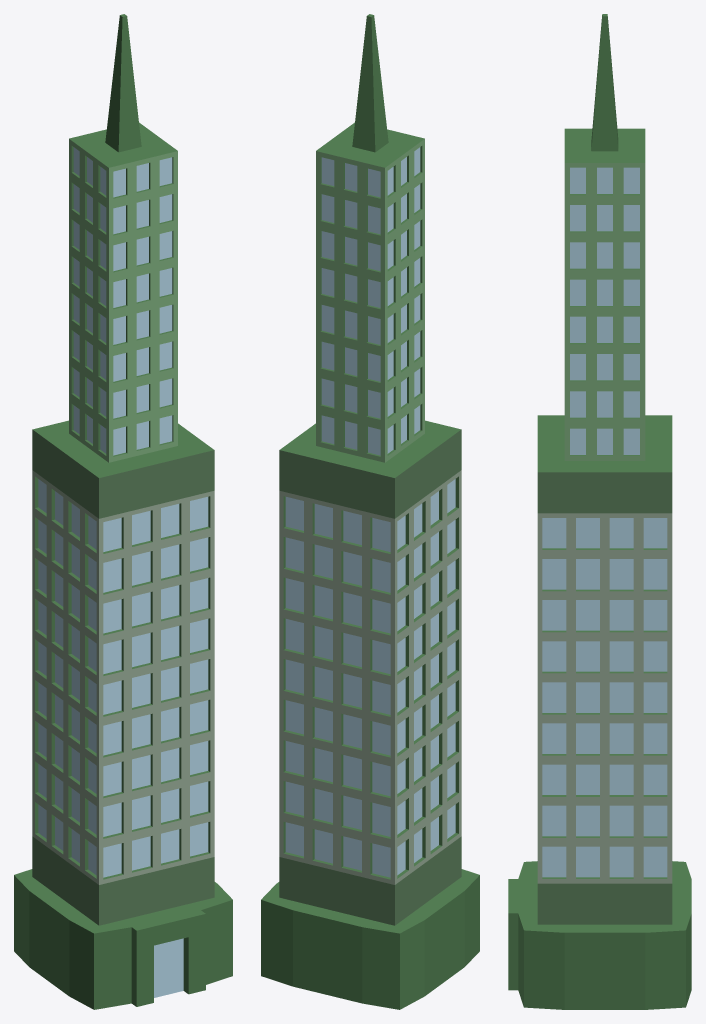
The model's file is skyscraperB.fbx.
3 views of the same model, side by side, from view 1: azimuth 30°, elevation 25°; view 2: azimuth 150°, elevation 25°; view 3: azimuth 270°, elevation 25° (orthographic).
Visible parts, largest first — view 1: SkyscraperB; view 2: SkyscraperB; view 3: SkyscraperB.
Boxes of the visible parts, <box> form: SkyscraperB: <box>14,14,232,1009</box>; SkyscraperB: <box>261,14,479,1009</box>; SkyscraperB: <box>508,14,691,1009</box>.
Size of the model in its own units: 1351 by 8239 by 1428.
